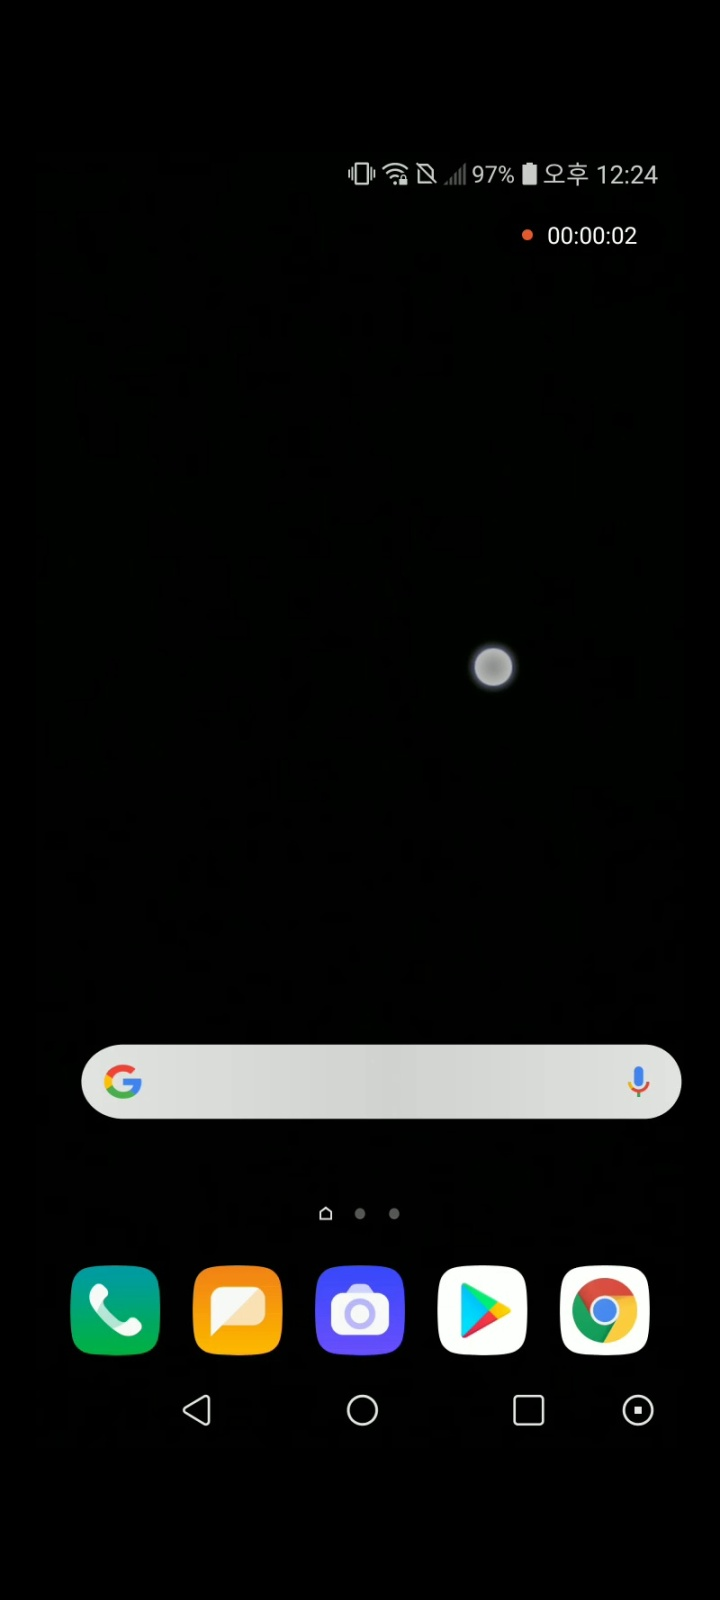Cursor: (470, 646, 515, 691)
